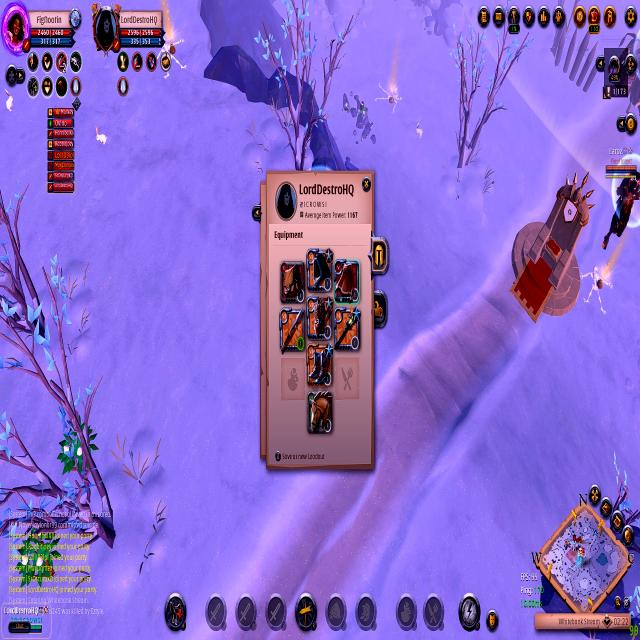hide: (15, 514, 63, 596), (56, 406, 102, 488)
player: (340, 84, 380, 154)
red: (601, 140, 640, 260)
